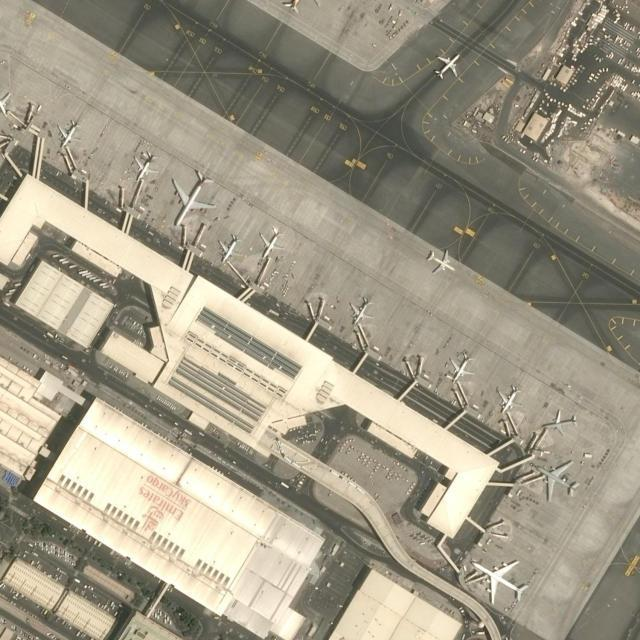Aircraft: (169, 163, 213, 227), (471, 555, 527, 605), (531, 453, 581, 500), (128, 148, 159, 180), (543, 406, 577, 433), (259, 228, 285, 260), (427, 245, 455, 274), (54, 119, 80, 150), (496, 383, 524, 411), (434, 49, 460, 79), (216, 235, 244, 261), (350, 295, 374, 323), (447, 351, 471, 379), (0, 86, 10, 114)
